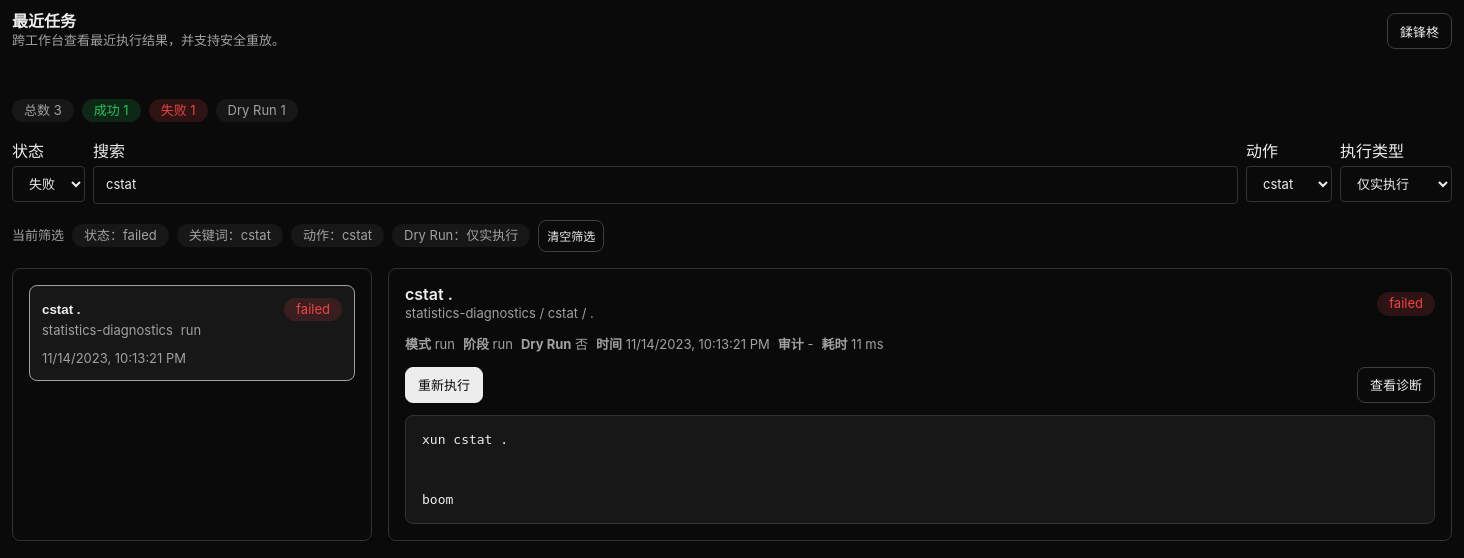
Test case: RecentTasksPanel › applies focus requests from the diagnostics workspace
This screenshot has width=1464, height=558.
Expected: the dropdown with test id "status-filter" shows "失败", [12,166,85,202]
Expected: the dropdown with test id "dryrun-filter" shows "仅实执行", [1340,166,1452,202]
Click the button with test id "clear-recent-filters". click: click(571, 236)
box: [538,220,604,252]
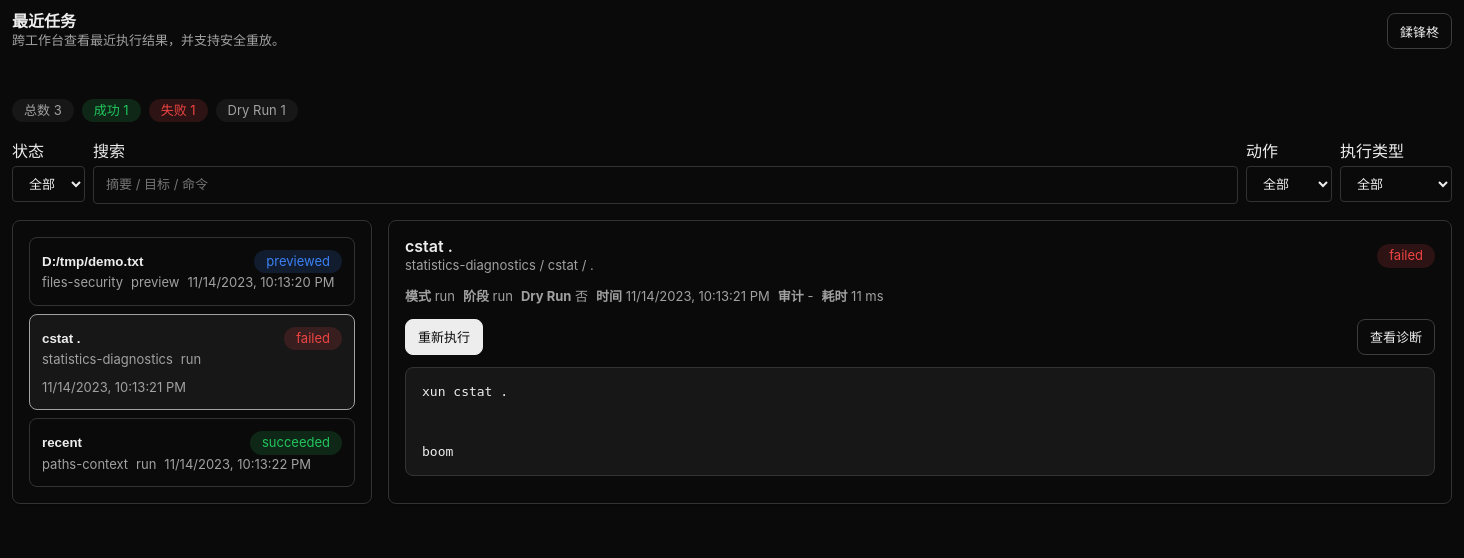
Expected: the dropdown with test id "status-filter" shows "全部", [12,166,85,202]
Expected: the dropdown with test id "dryrun-filter" shows "全部", [1340,166,1452,202]
Expected: the field with test id "recent-search-filter" is empty, [93,166,1238,204]
